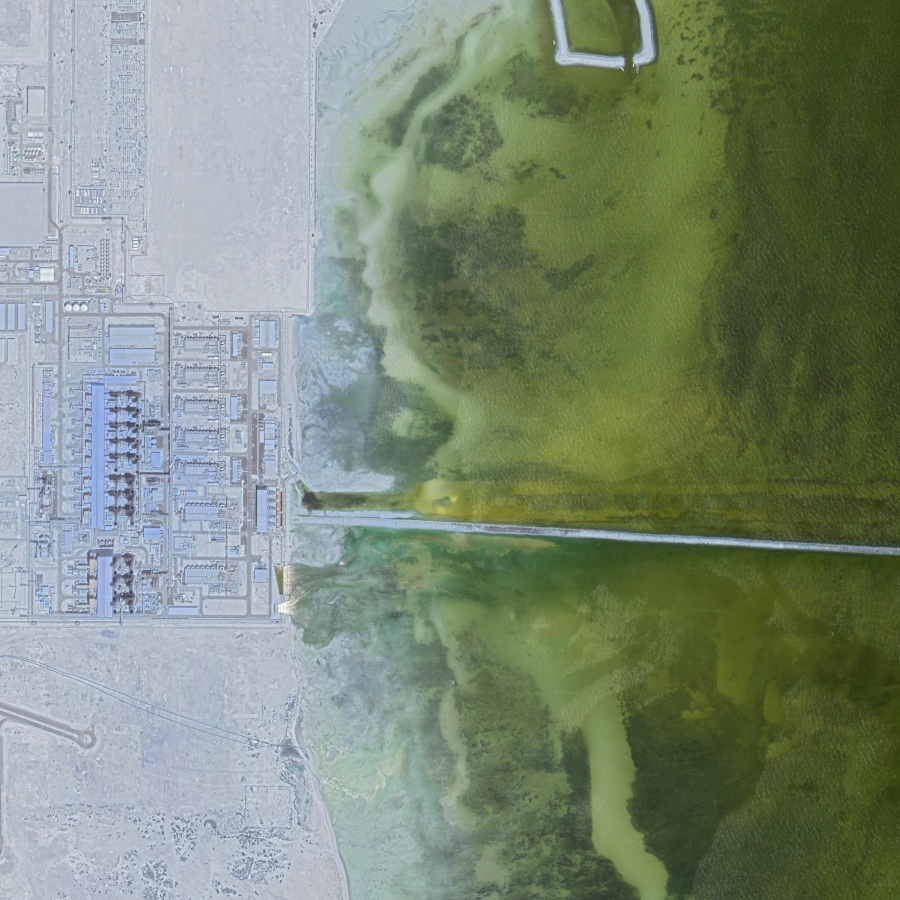PowerPlant: (52, 292, 314, 618)
